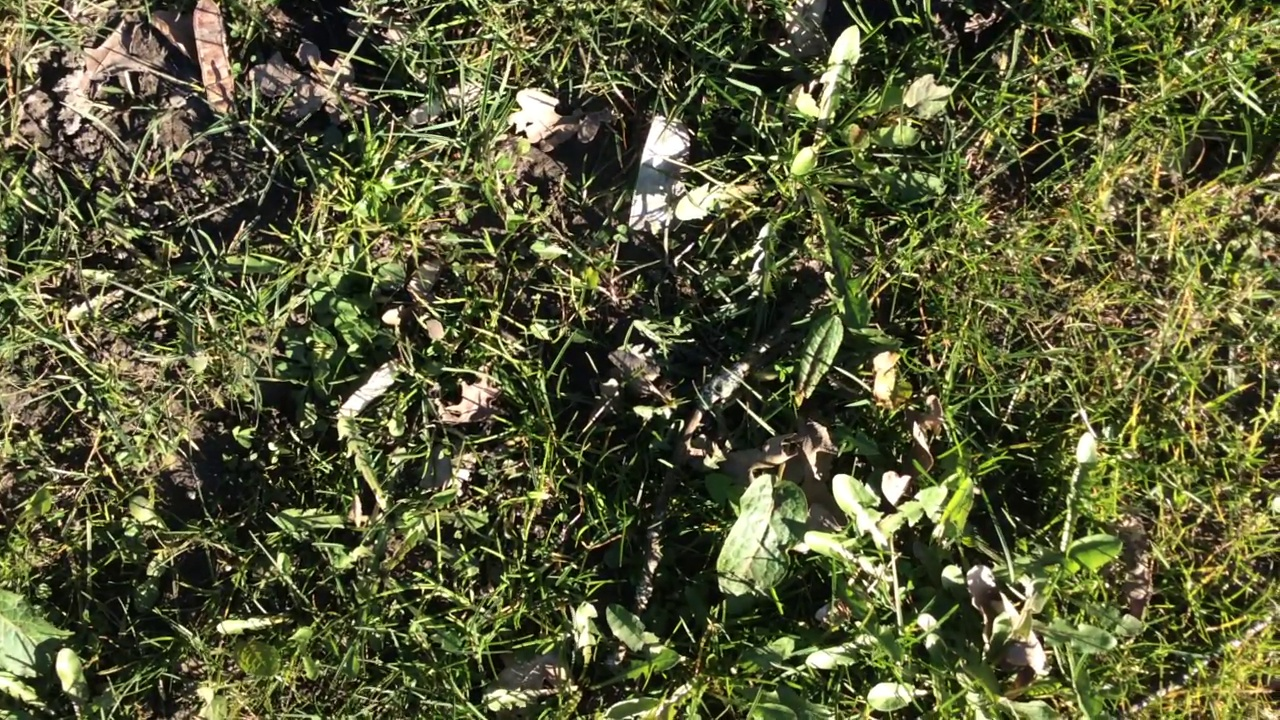rumex: (717, 474, 807, 611), (795, 315, 844, 406)
